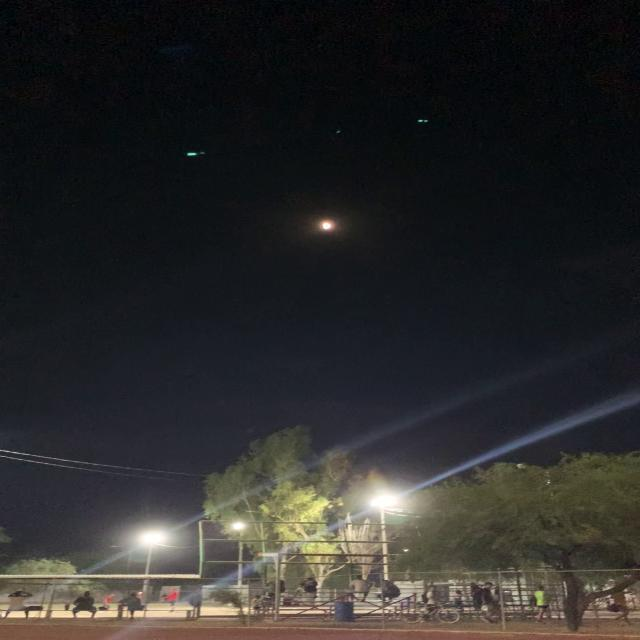moon: (320, 215, 346, 239)
